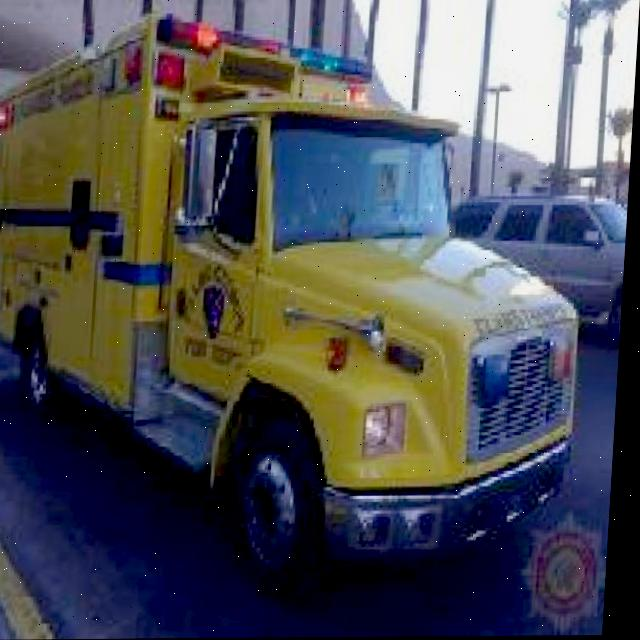emergency: (0, 2, 603, 596)
